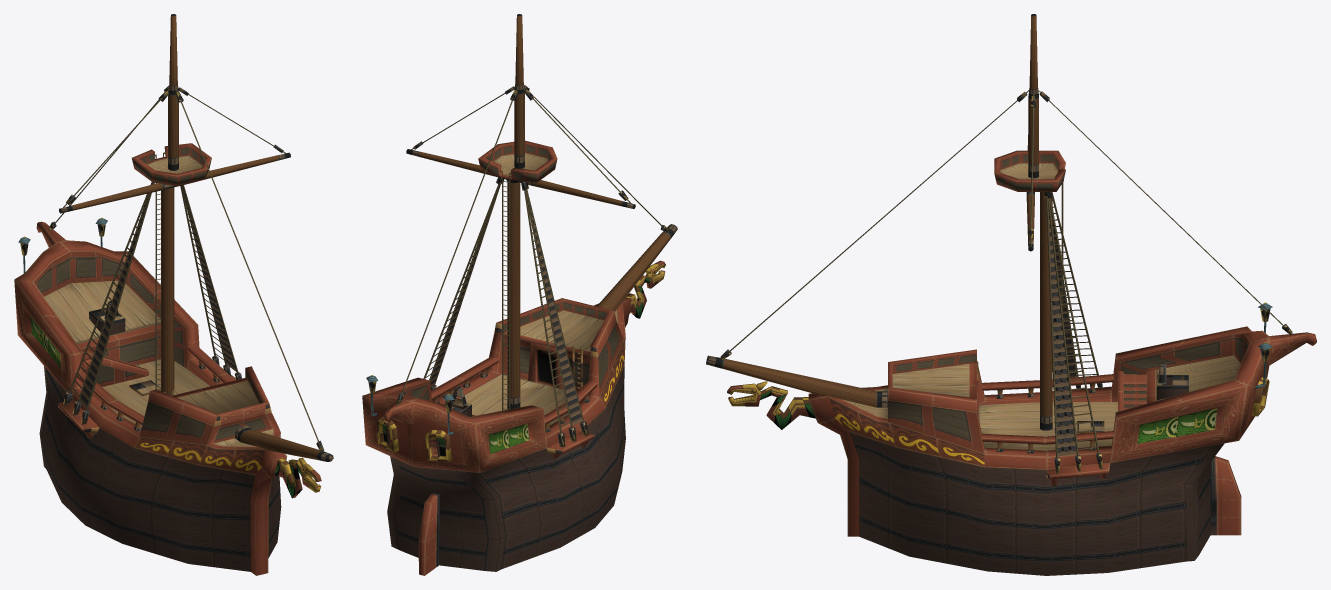
File: pirate_ship.obj
3 renders of one model, left to right at view 1: azimuth 30°, elevation 25°; view 2: azimuth 150°, elevation 25°; view 3: azimuth 270°, elevation 25°, orthographic. The views are drawn at different scales.
Parts seen in each view (by area): view 1: pirate_ship; view 2: pirate_ship; view 3: pirate_ship.
Boxes of the visible parts, bbox=[...] form: pirate_ship: bbox=[14, 14, 333, 575]; pirate_ship: bbox=[362, 14, 677, 575]; pirate_ship: bbox=[706, 14, 1316, 575].
Size of the model in its own units: 1800 by 3707 by 3956.
Materials: 1 (1 with a texture image).
